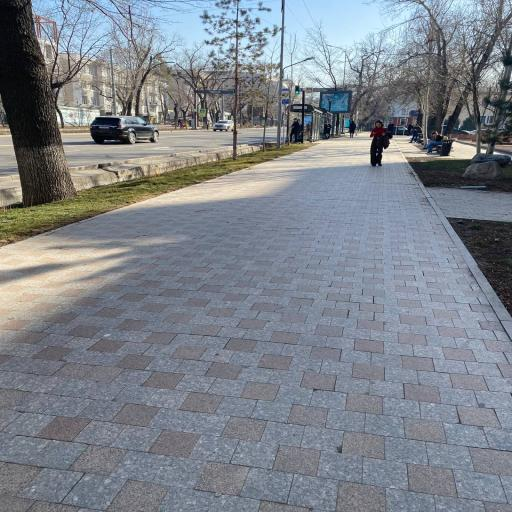book: (302, 104, 323, 141)
laptop: (370, 120, 388, 166), (423, 132, 443, 152), (349, 120, 356, 137)
shelf: (0, 138, 511, 511)
